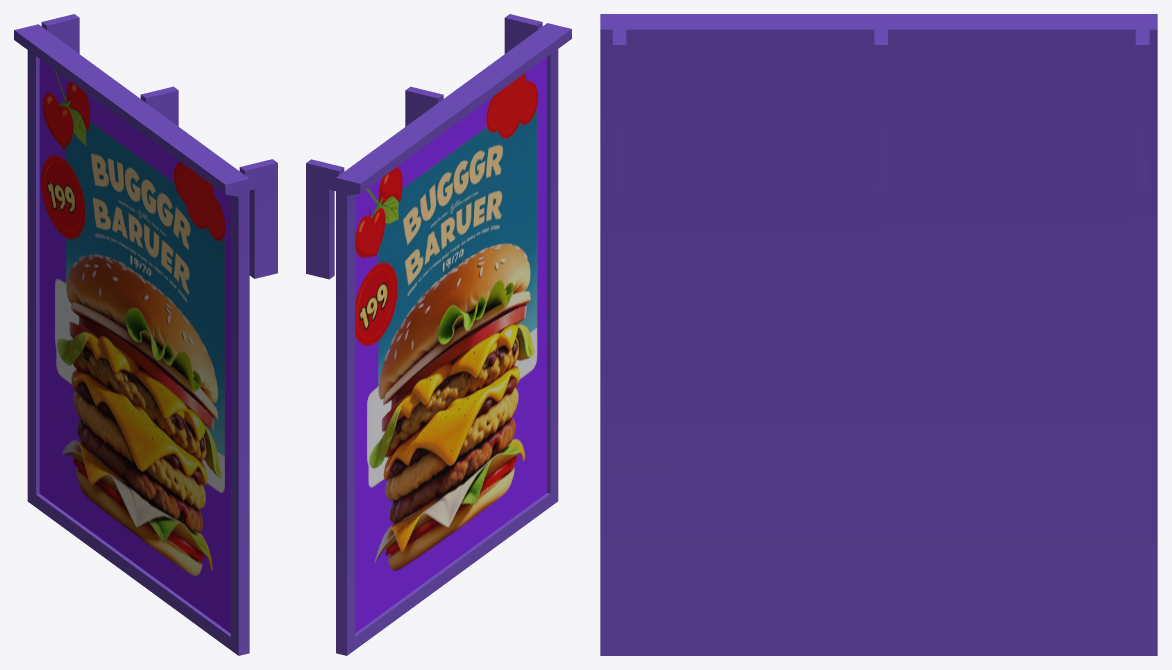
The model's file is SignProp_2_C_4.fbx.
3 renders of one model, left to right at view 1: azimuth 30°, elevation 25°; view 2: azimuth 150°, elevation 25°; view 3: azimuth 270°, elevation 25°, orthographic. The views are drawn at different scales.
Parts seen in each view (by area): view 1: SignProp_2_C_4; view 2: SignProp_2_C_4; view 3: SignProp_2_C_4.
Boxes of the visible parts, <box> form: SignProp_2_C_4: <box>14,14,277,655</box>; SignProp_2_C_4: <box>306,14,571,655</box>; SignProp_2_C_4: <box>600,14,1157,655</box>.
Size of the model in its own units: 14.49 by 116 by 92.55.
